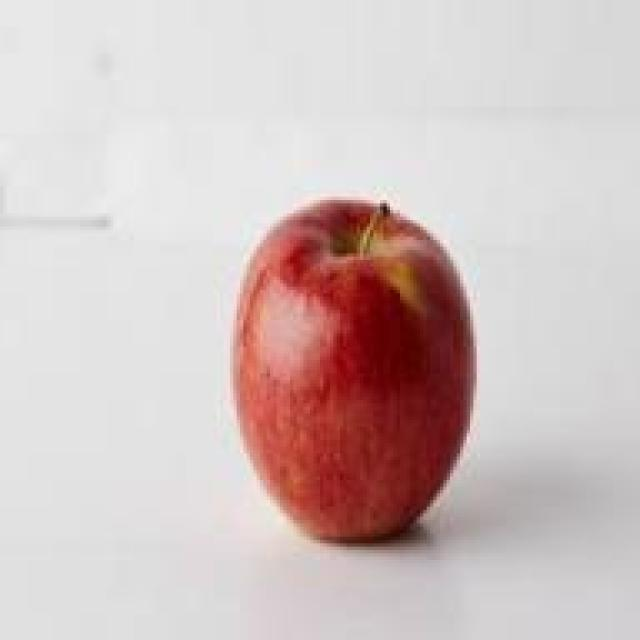apple: (216, 187, 476, 543)
